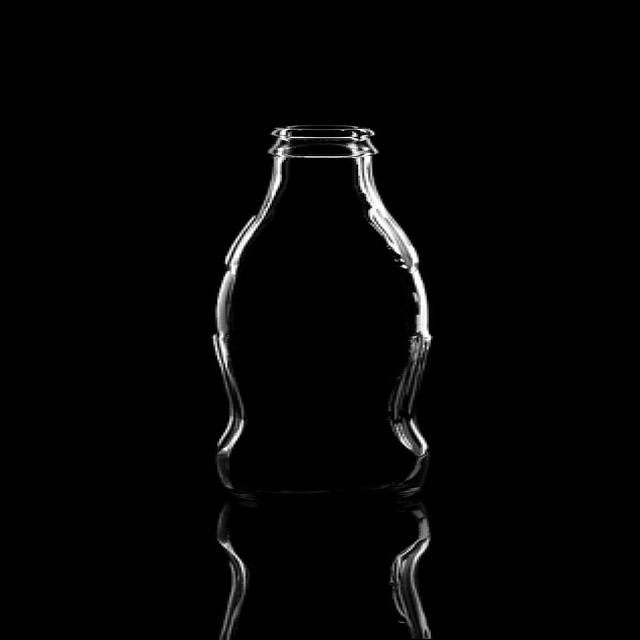Bottle: (187, 112, 472, 500)
